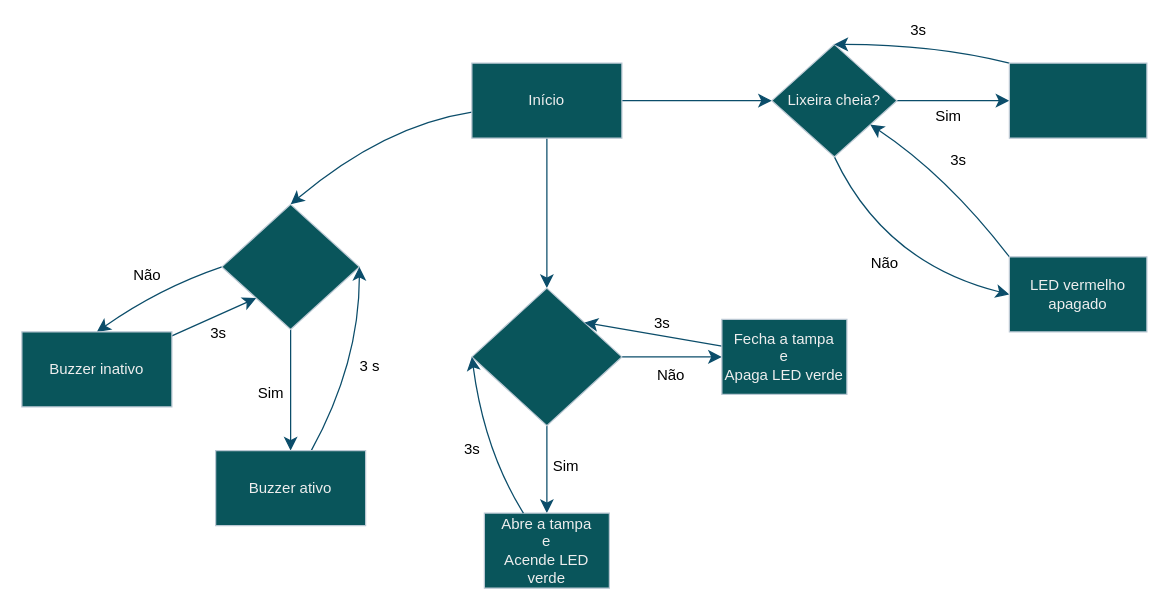
The diagram is 1169 pixels wide and 610 high, and some of its shapes have lost their labels. The shapes that lost their labels are listed below. From the top down, each one's centre as x and y in pixels, then its label:
At [1077,100]: "LED vermelho aceso".
At [290,266]: "Temperatura >= 33 °C?".
At [546,356]: "Movimento detectado?".
